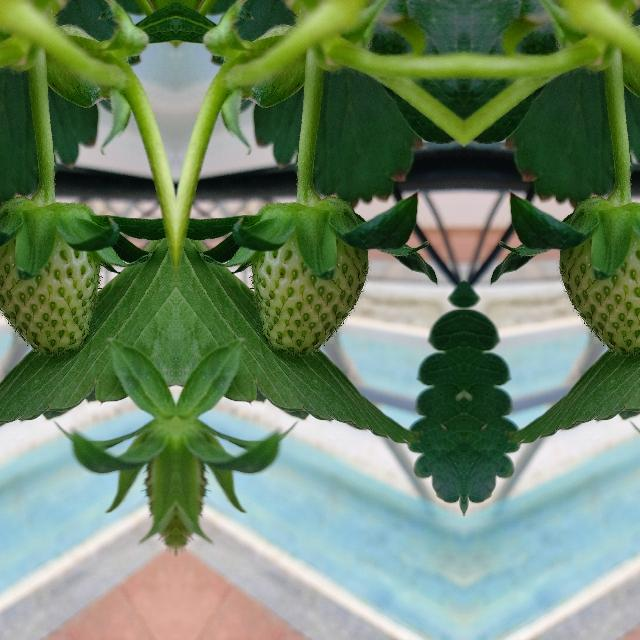Health_25: (246, 228, 370, 358), (0, 228, 104, 357), (556, 228, 640, 357)
